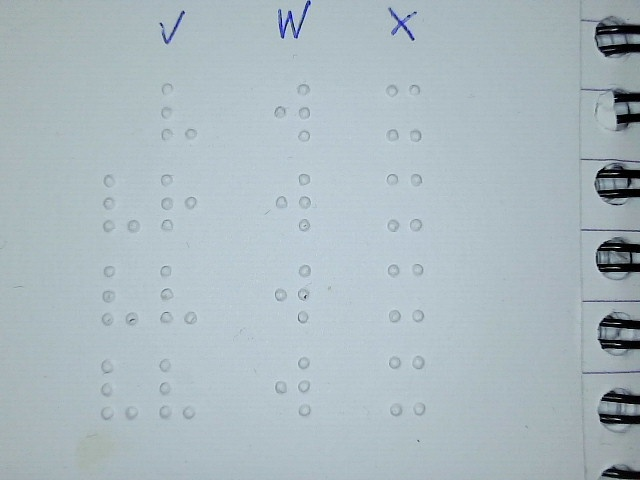V: (159, 80, 200, 142), (101, 171, 142, 233), (157, 263, 198, 325), (157, 357, 198, 419), (99, 357, 140, 419)
W: (272, 81, 313, 143), (273, 171, 314, 233), (272, 262, 313, 324), (272, 355, 313, 417)
X: (383, 81, 424, 143), (383, 171, 424, 233), (385, 261, 426, 323), (386, 354, 427, 416)
